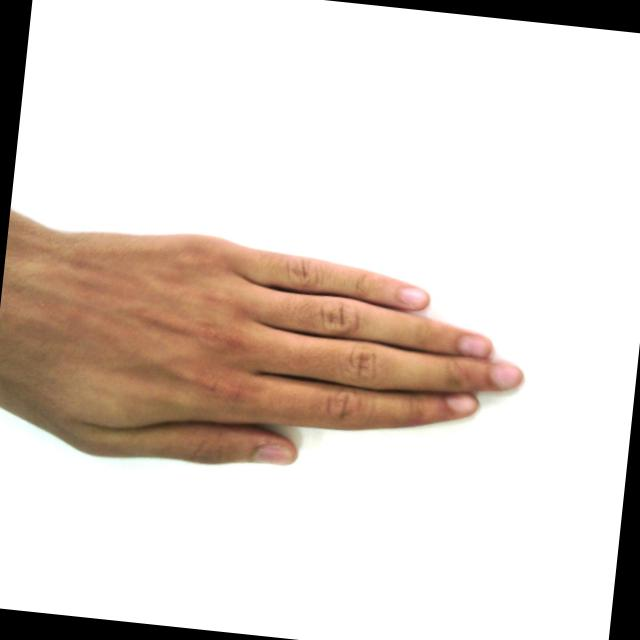Nail: (253, 442, 296, 464), (491, 361, 523, 389), (457, 333, 492, 356), (445, 392, 478, 415), (398, 285, 429, 307)
